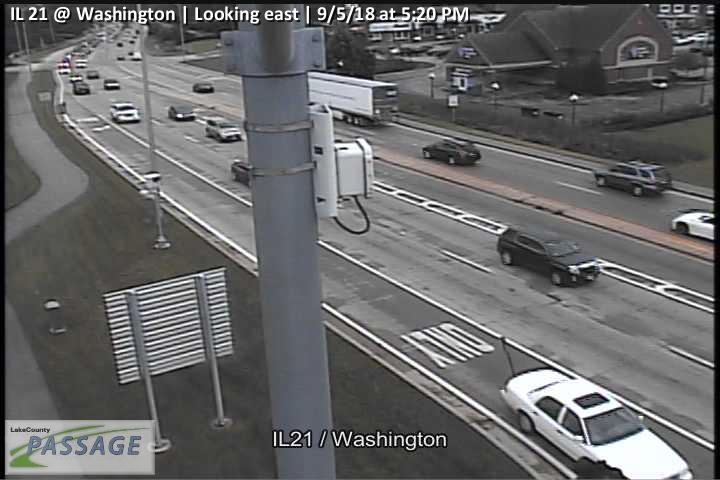SUV: (495, 223, 602, 287), (594, 160, 673, 196), (421, 137, 481, 165), (204, 116, 241, 142), (110, 102, 141, 123)
Sedan: (499, 367, 692, 480), (670, 211, 715, 240), (168, 103, 196, 121), (193, 81, 215, 93)
Truck: (308, 71, 401, 128)
